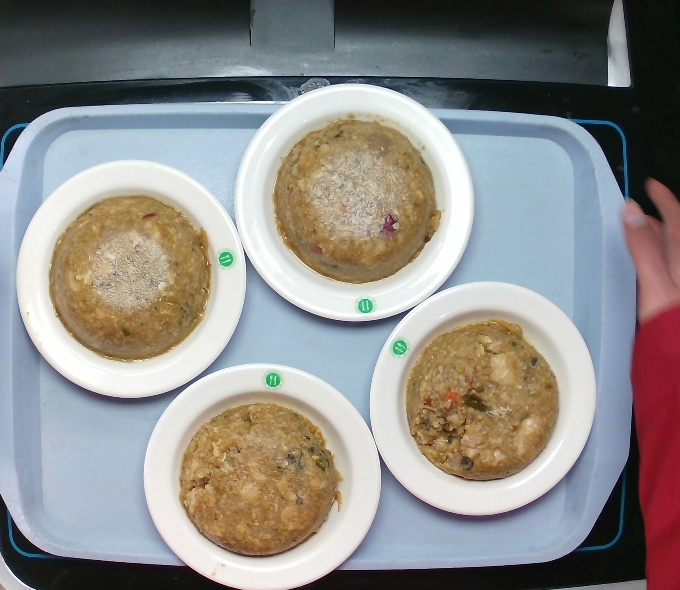wcq-YuDong: (32, 192, 222, 362), (268, 109, 446, 290), (396, 308, 561, 497), (178, 395, 340, 563)
